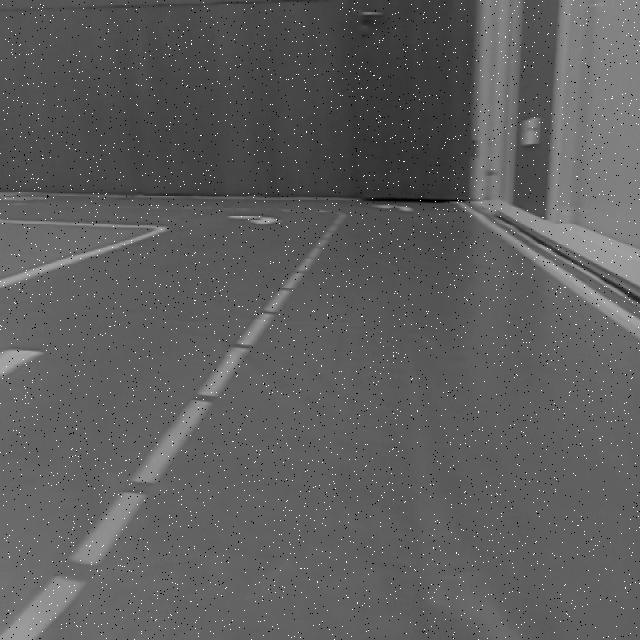left_lane: (1, 219, 338, 640)
right_lane: (462, 208, 640, 339)
